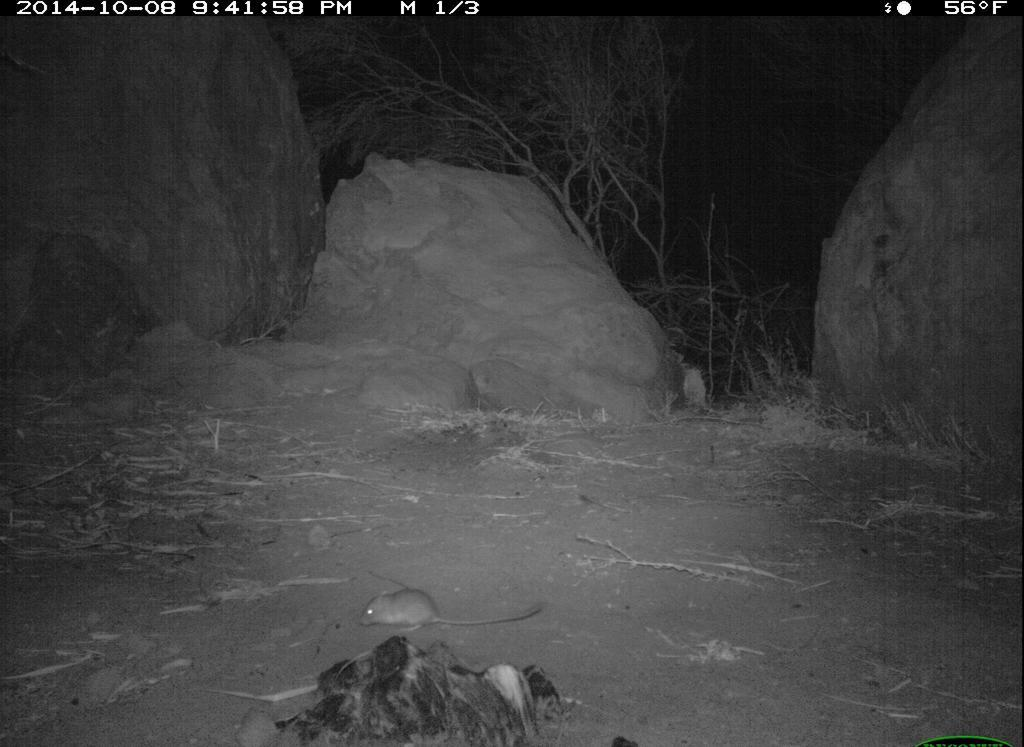rodent: (351, 584, 553, 637)
